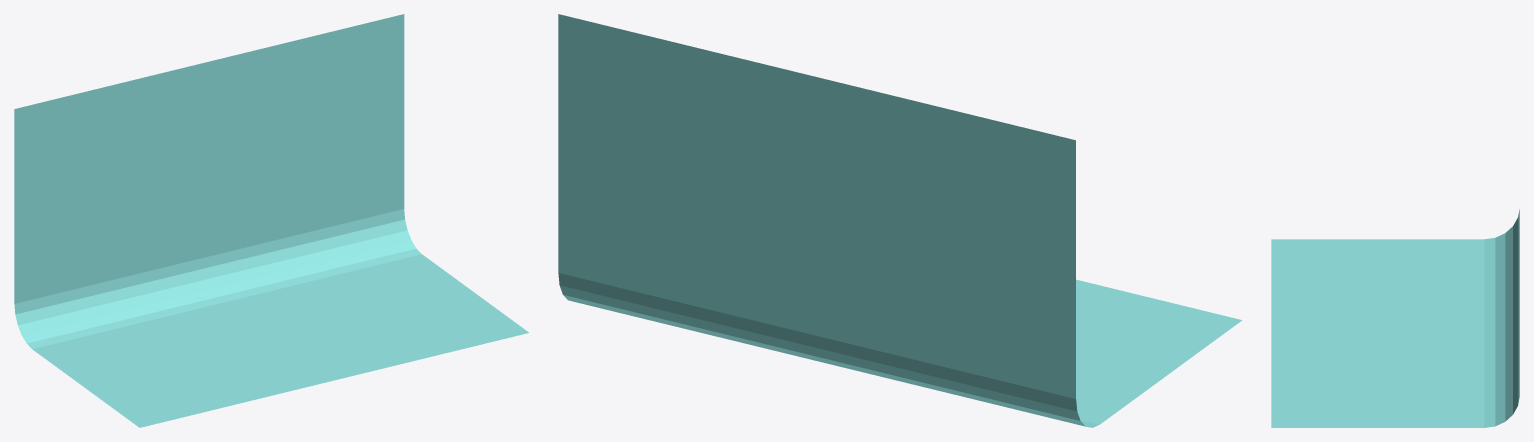
The model's file is pared.glb.
3 renders of one model, left to right at view 1: azimuth 30°, elevation 25°; view 2: azimuth 150°, elevation 25°; view 3: azimuth 270°, elevation 25°, orthographic. The views are drawn at different scales.
Visible parts, largest first — view 1: Cube; view 2: Cube; view 3: Cube.
Boxes of the visible parts, left/top/right/bottom form: Cube: left=14, top=14, right=528, bottom=427; Cube: left=558, top=14, right=1242, bottom=427; Cube: left=1271, top=209, right=1519, bottom=427.
Size of the model in its own units: 8.17 by 4.55 by 4.55.
